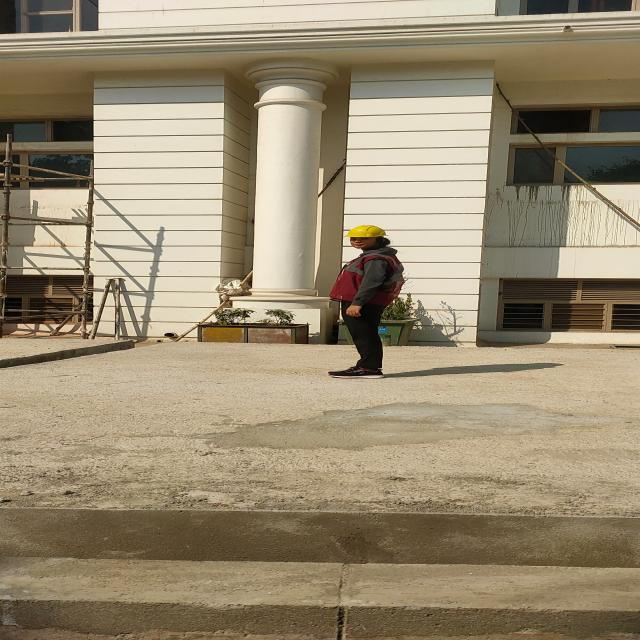safe: (331, 225, 404, 378)
